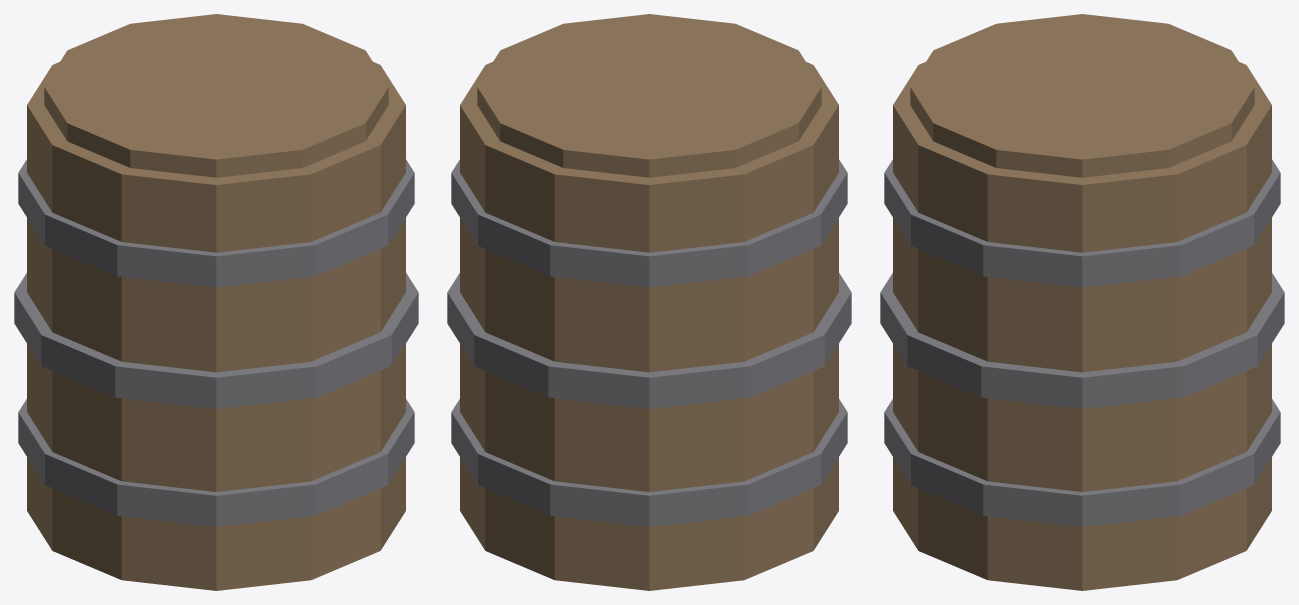
File: barrel.glb
The picture shows the model from 3 angles, left to right: view 1: azimuth 30°, elevation 25°; view 2: azimuth 150°, elevation 25°; view 3: azimuth 270°, elevation 25°; orthographic projection.
Visible parts, largest first — view 1: barrel; view 2: barrel; view 3: barrel.
Part boxes in pixels (x1=…): barrel: x1=14, y1=14, x2=418, y2=590; barrel: x1=447, y1=14, x2=851, y2=590; barrel: x1=880, y1=14, x2=1284, y2=590.
Bounding box in the file's own units: 0.704 × 0.815 × 0.704.
